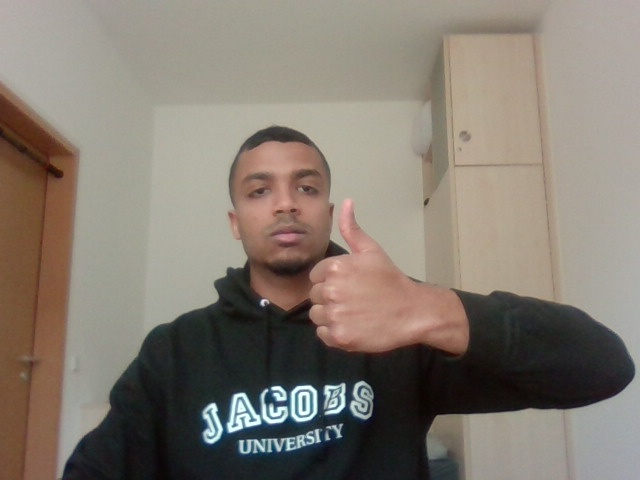perfect: (304, 196, 455, 368)
